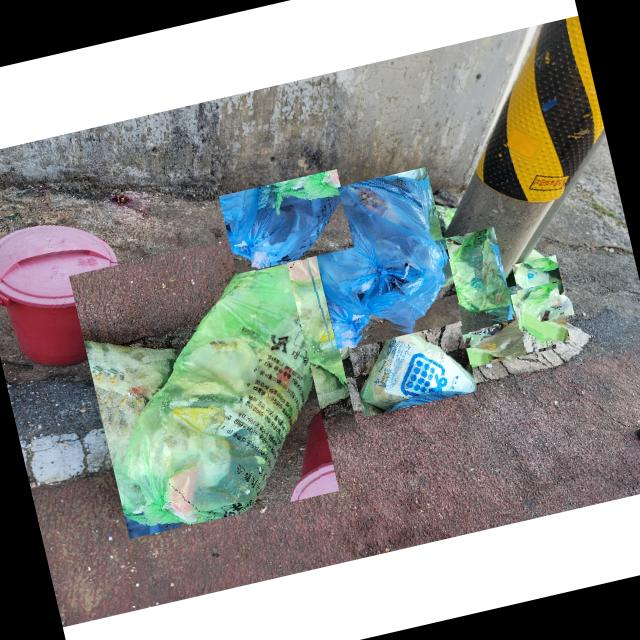general_trashbag: (119, 229, 311, 522), (215, 262, 347, 444), (358, 323, 476, 406), (445, 228, 510, 315), (457, 295, 547, 357), (520, 280, 568, 341), (514, 261, 562, 296)
other_trashbag: (308, 174, 444, 327), (229, 191, 341, 267)
